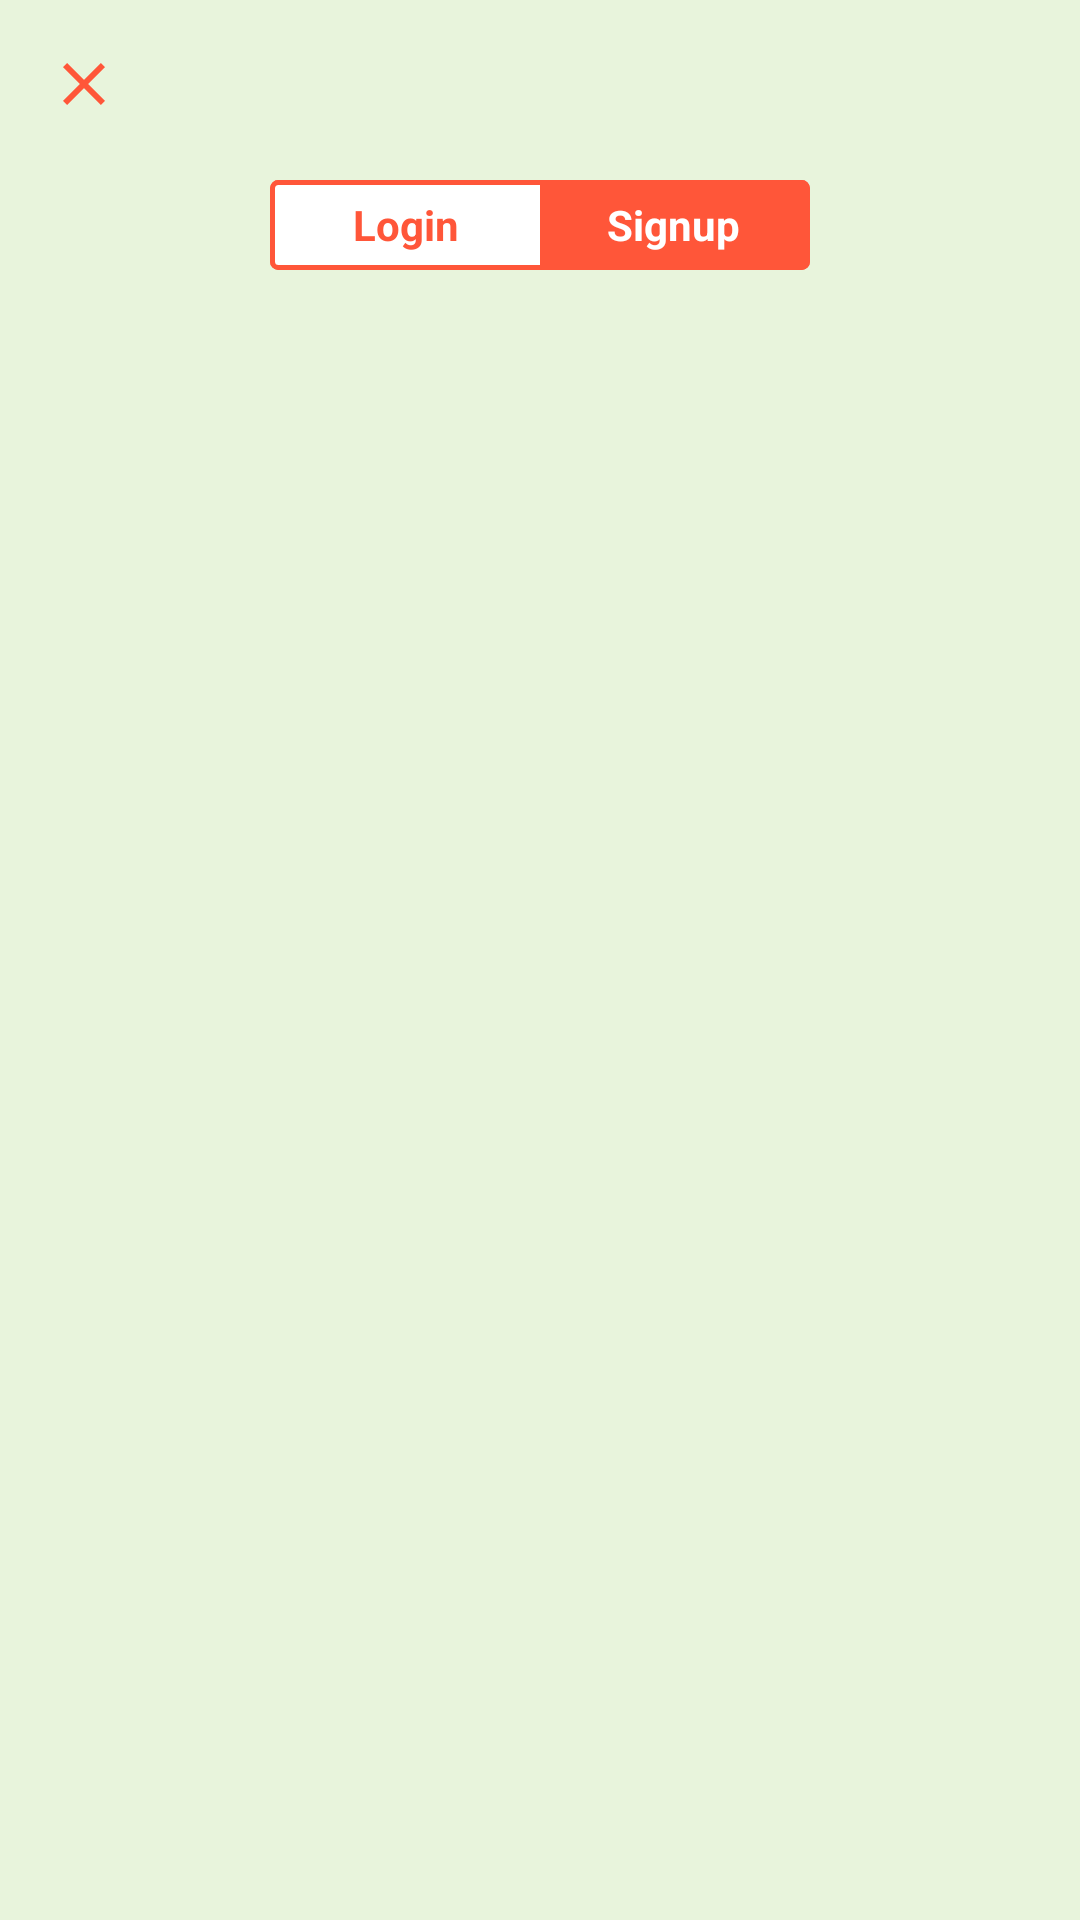

Named icons in this screenshot (1080*1920) and their centers, [x,y]:
close: [84,84]
